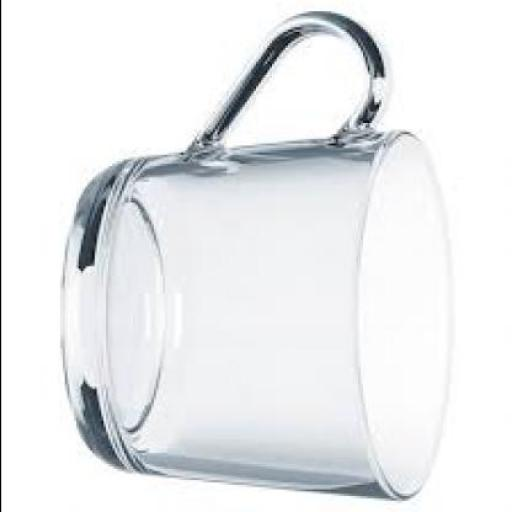glass: (64, 14, 458, 504)
